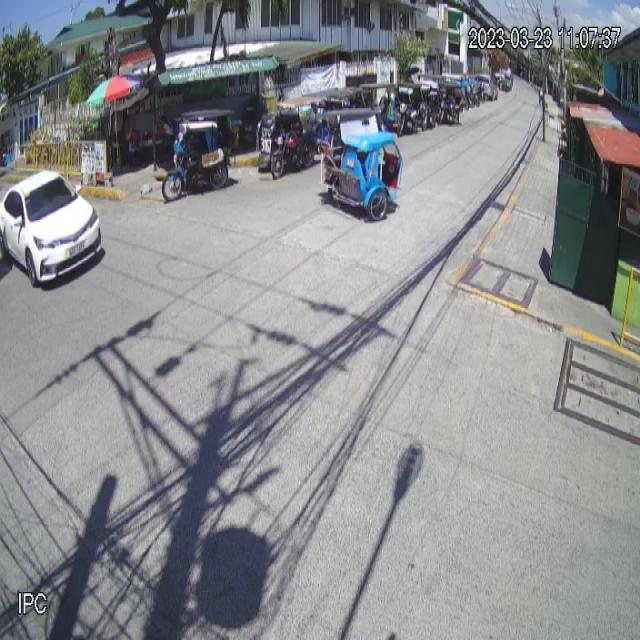Car: (0, 168, 103, 288)
Tricycle: (317, 107, 405, 220)
